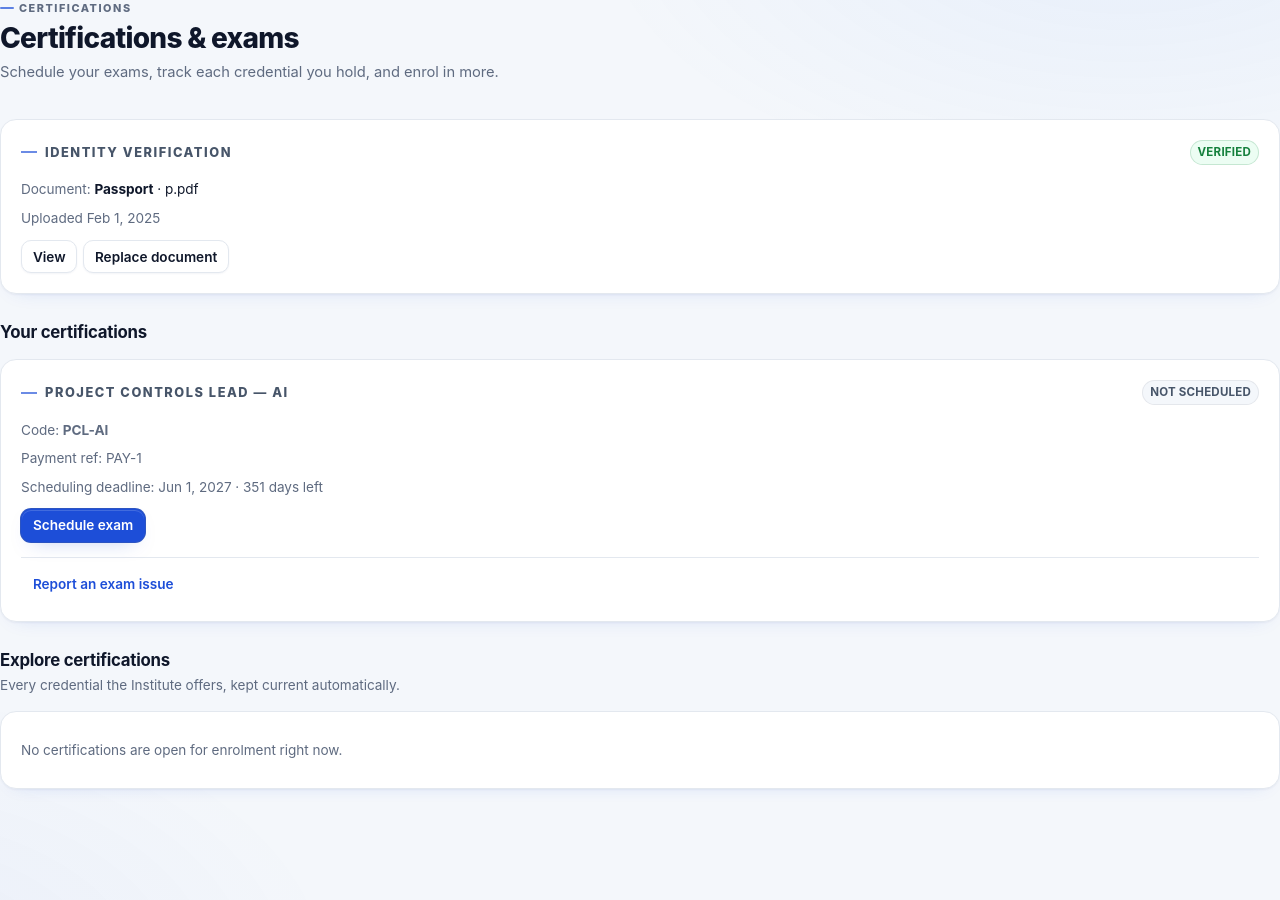
Test: Certifications › booking form › maps a backend BOOK_ERRORS code to its friendly message
Click the button "Schedule exam". click: (83, 526)
box: [21,509,145,542]
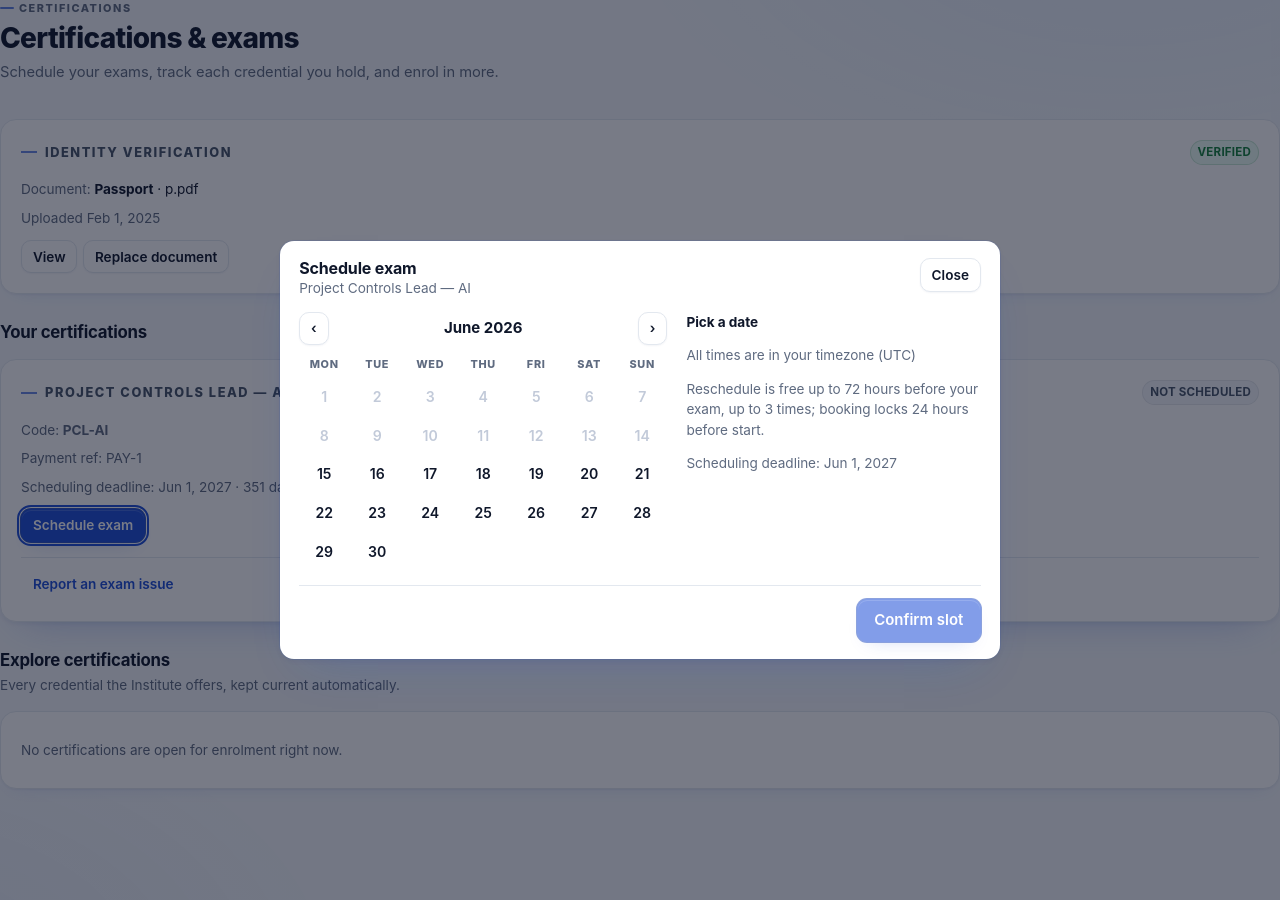
Check: the button "Confirm slot" is shown, box [857,599,981,642]
Click the button named "Next month". click: (652, 328)
box: [638,312,667,345]
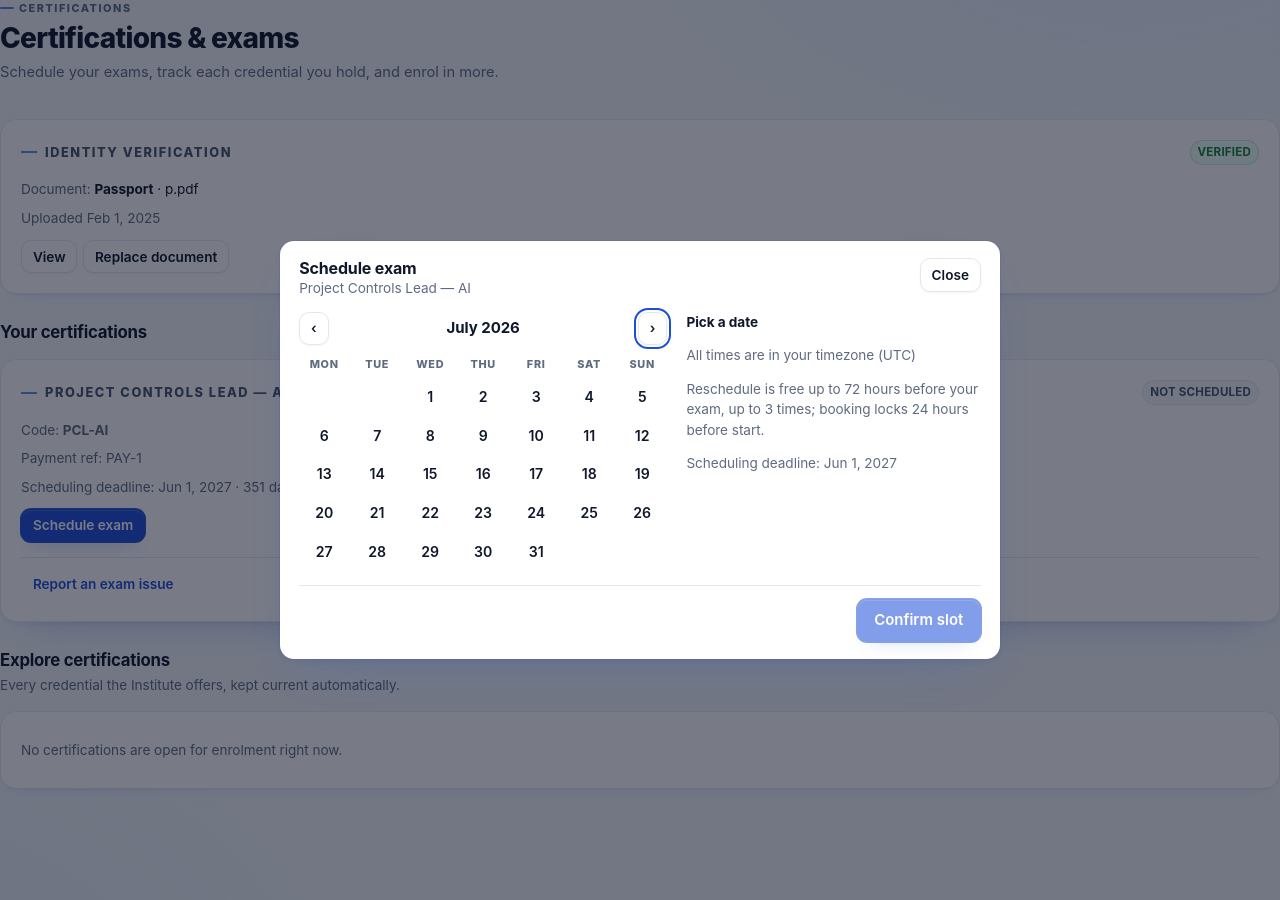
Check: the button "1" is shown, box [405,378,455,414]
Click the button "31". click: (536, 552)
box: [511,534,561,569]
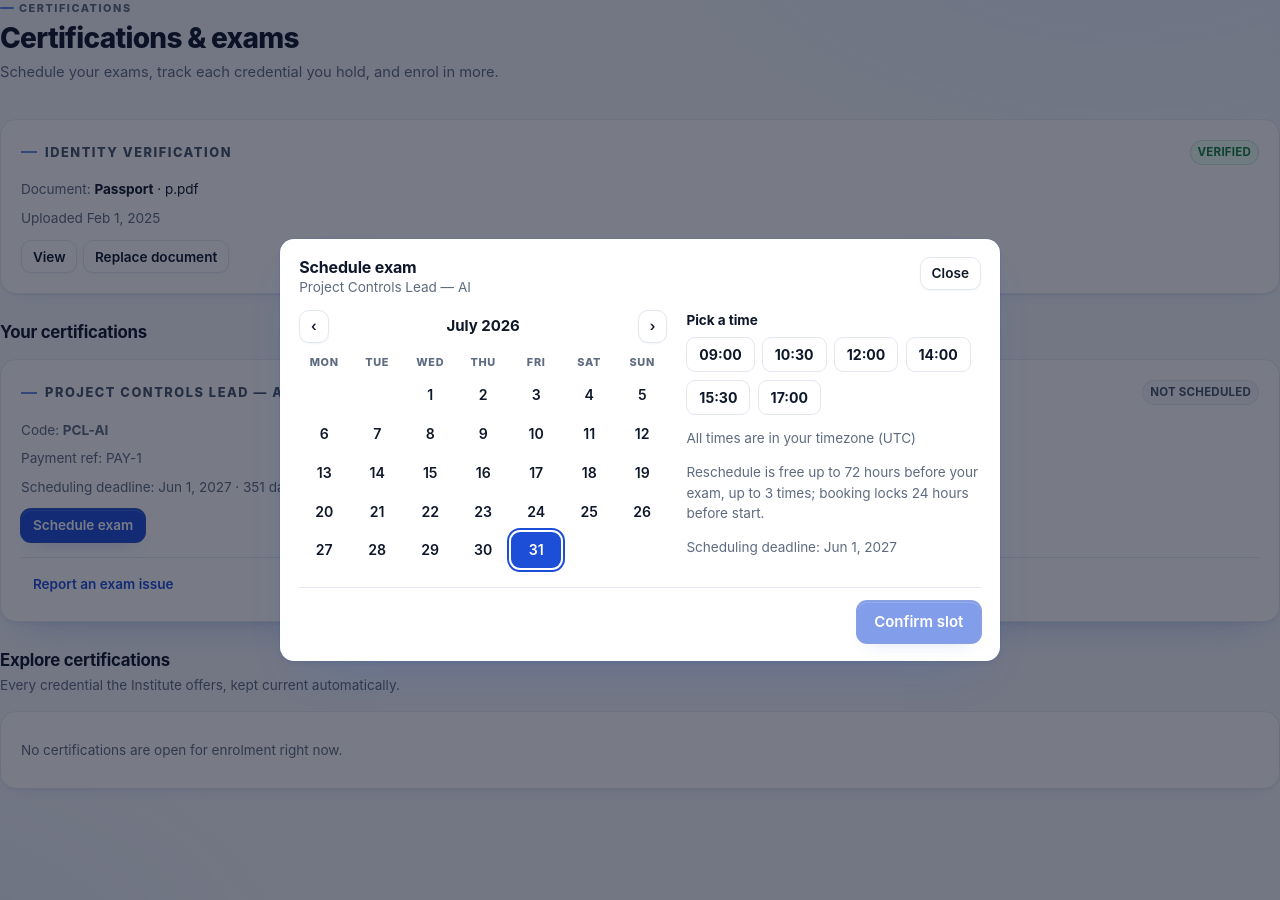
Check: the button "09:00" is shown, box [686,337,755,372]
Click the button "17:00". click: (789, 398)
box: [758,380,821,416]
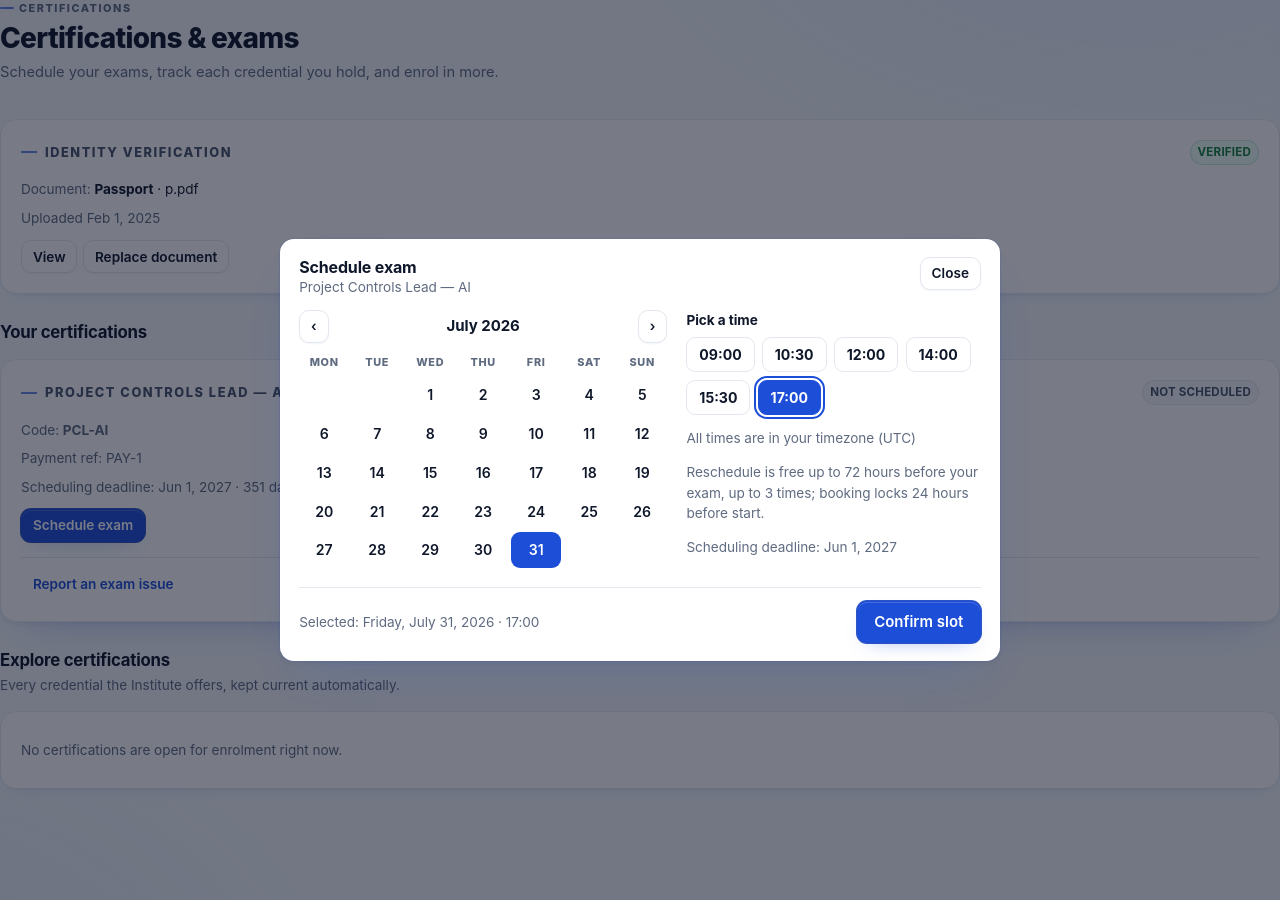
Click the button "Confirm slot". click: (919, 622)
box: [857,601,981,643]
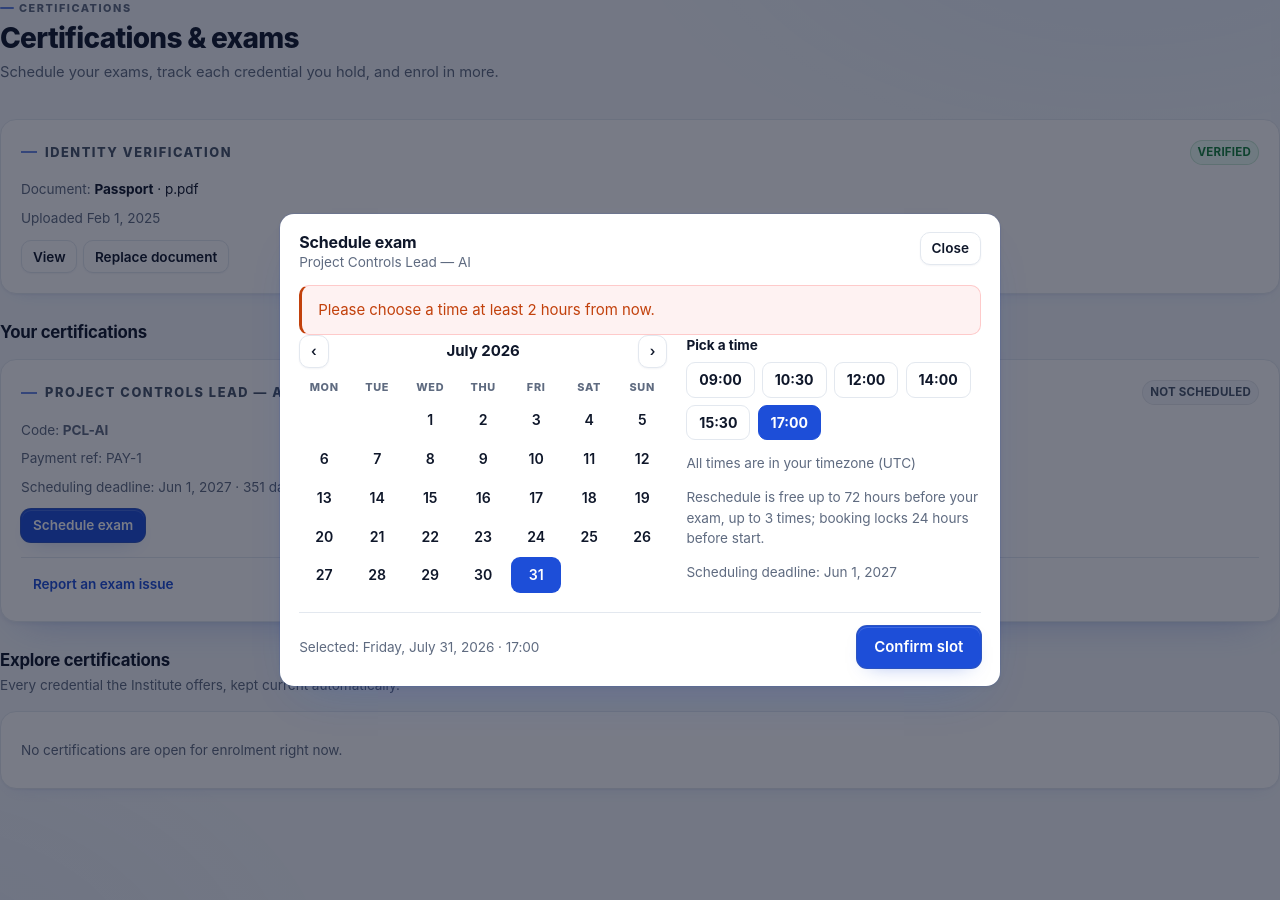
Check: the message reads "Please choose a time at least 2 hours from now.", box [318,300,655,319]
